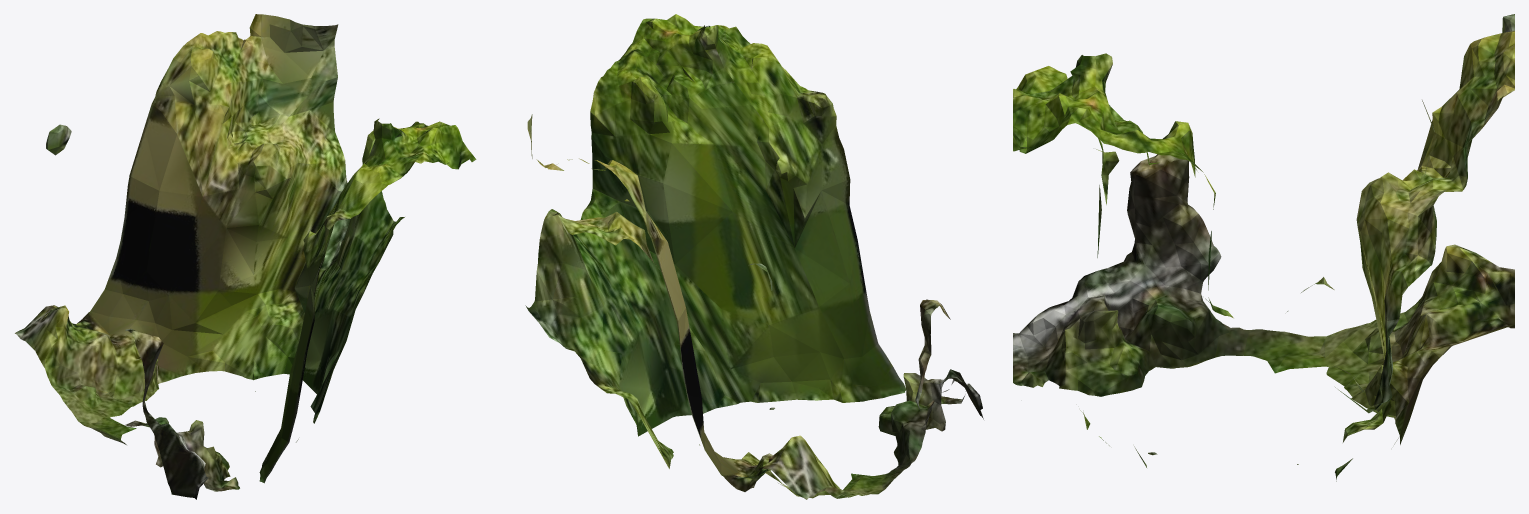
The picture shows the model from 3 angles, left to right: view 1: azimuth 30°, elevation 25°; view 2: azimuth 150°, elevation 25°; view 3: azimuth 270°, elevation 25°; orthographic projection. The views are drawn at different scales.
Bounding box in the file's own units: 3.35 × 3.35 × 3.35.
5 materials, 5 textured.
